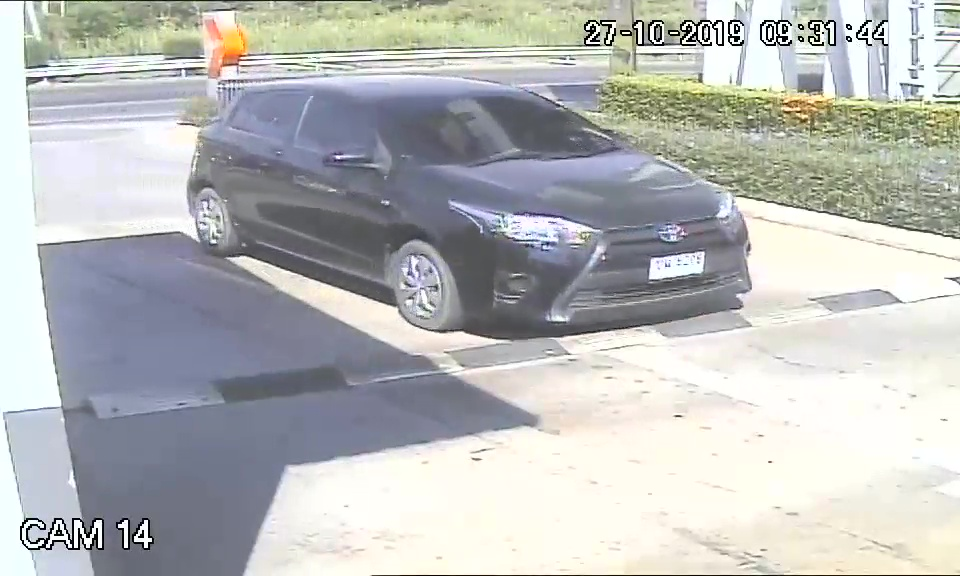sedan: (187, 70, 753, 333)
